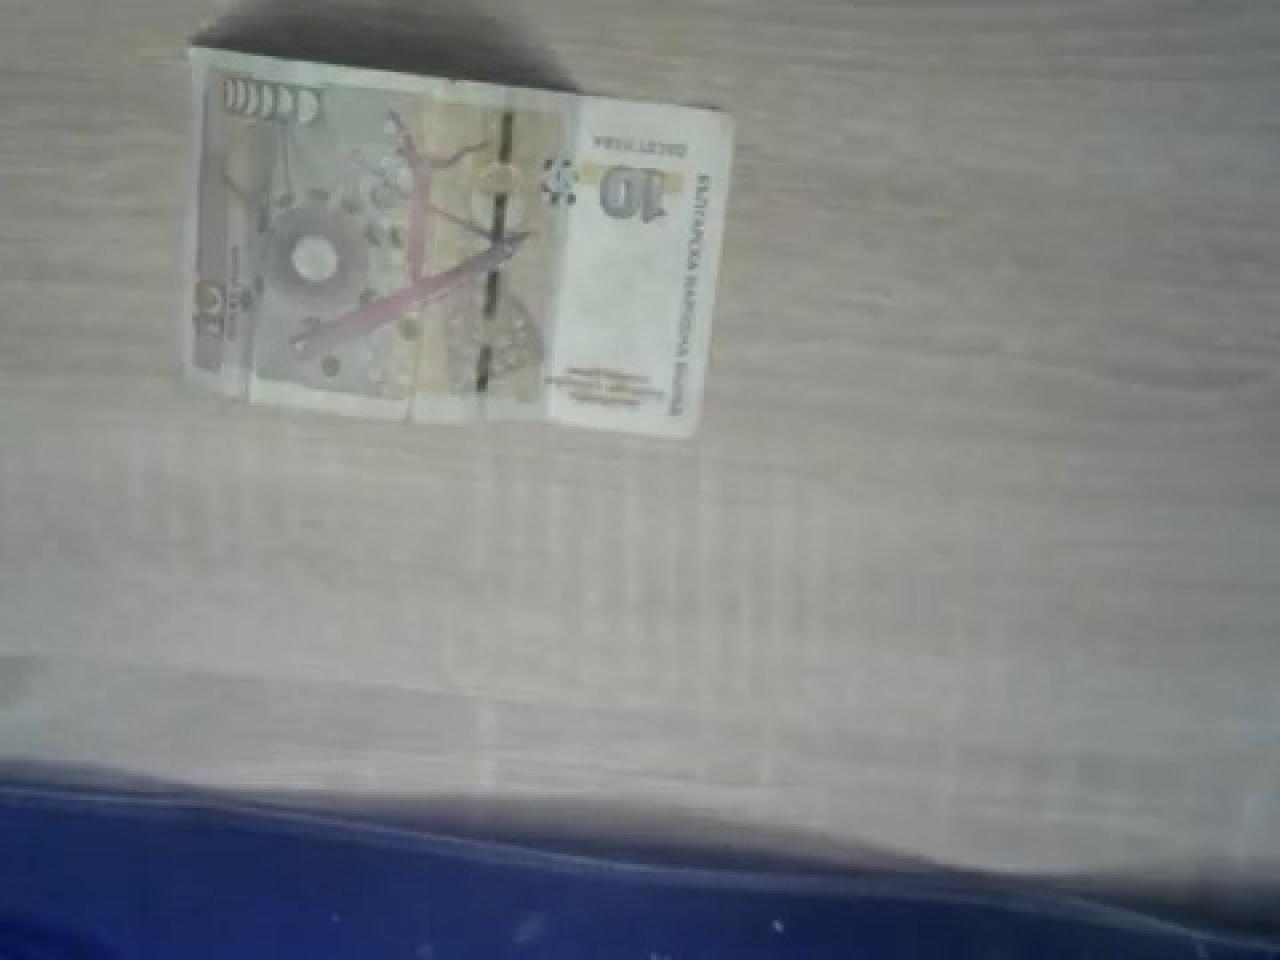10leva: (178, 26, 739, 438)
